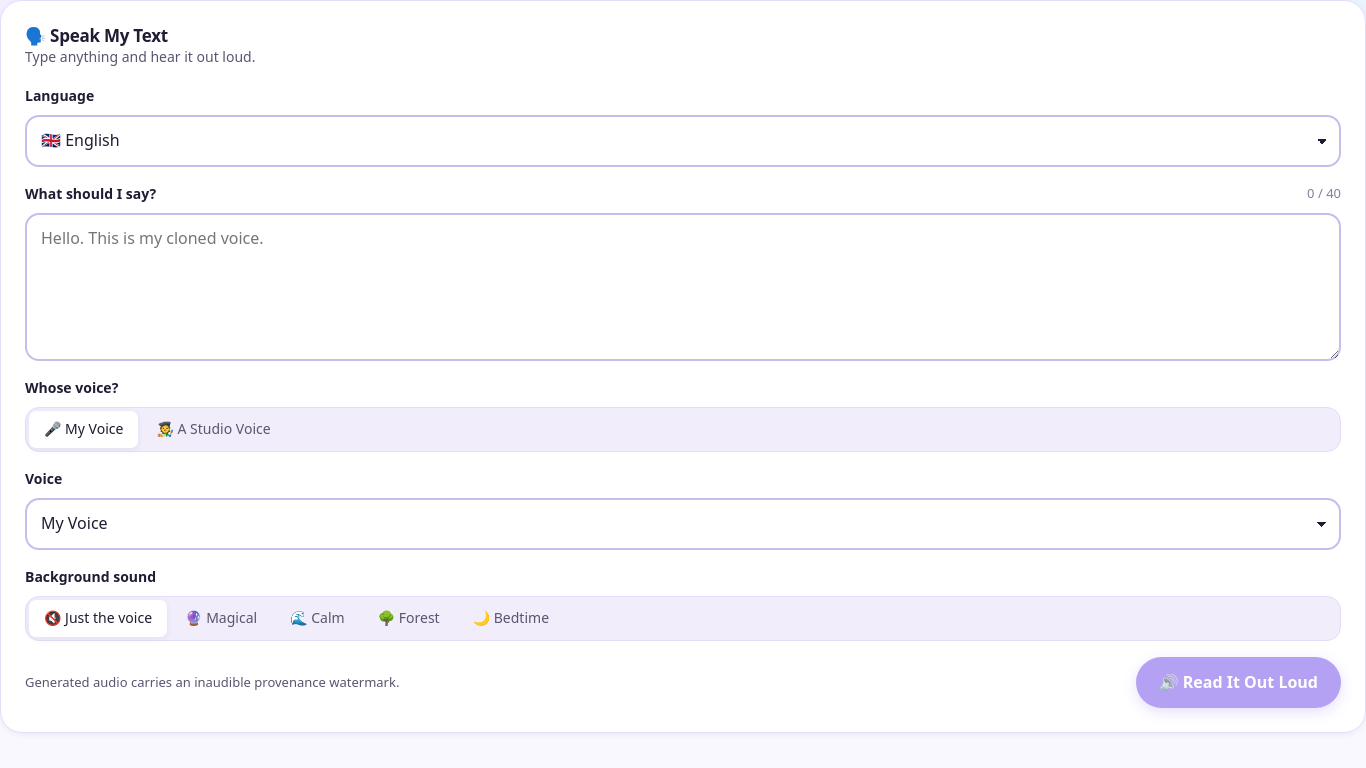
GenerateForm › shows the character counter against the server limit
Type "Hello" into the text box with test id "text-input" at (683, 287), box 25,213 -> 1341,361
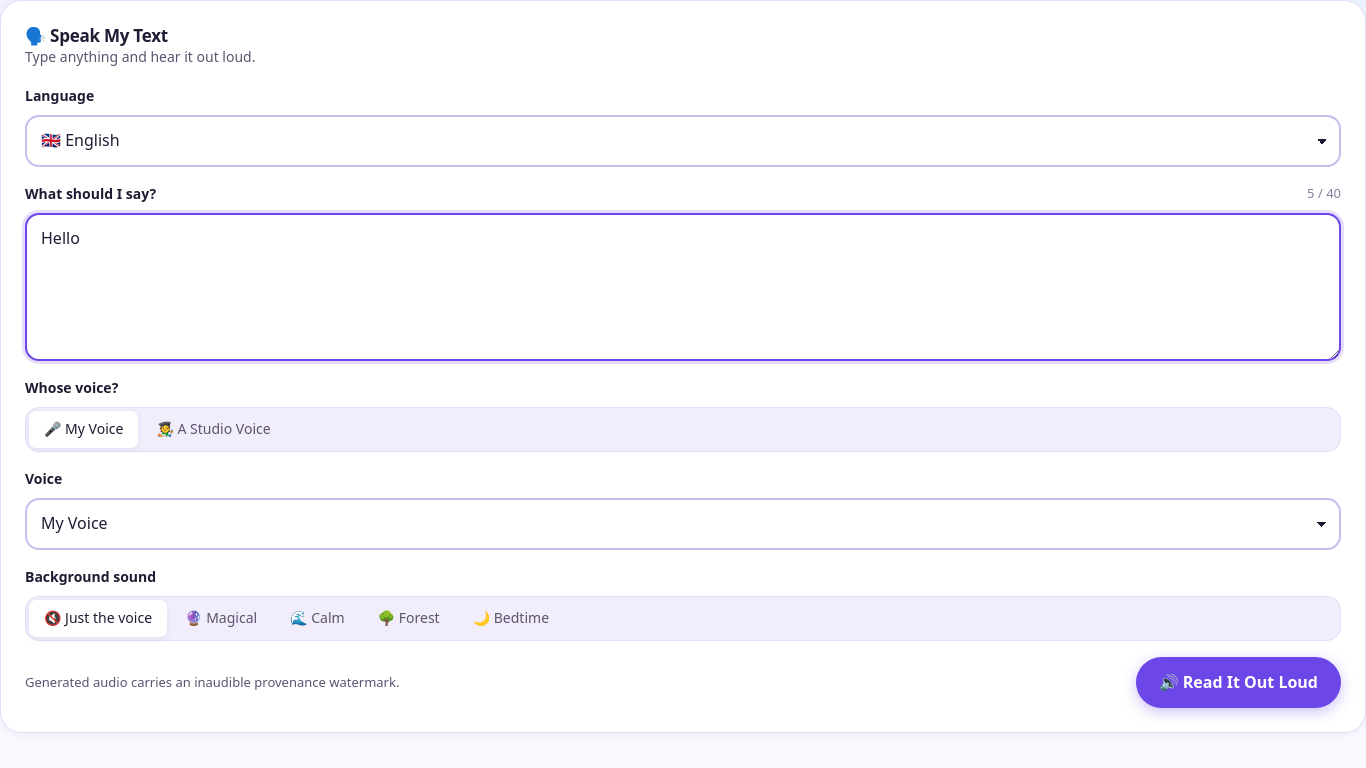
Check: the text with test id "char-counter" reads "5 / 40", box 1307,183 -> 1341,204
